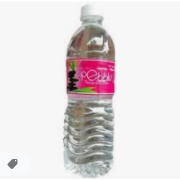Bottle: (67, 6, 114, 175)
